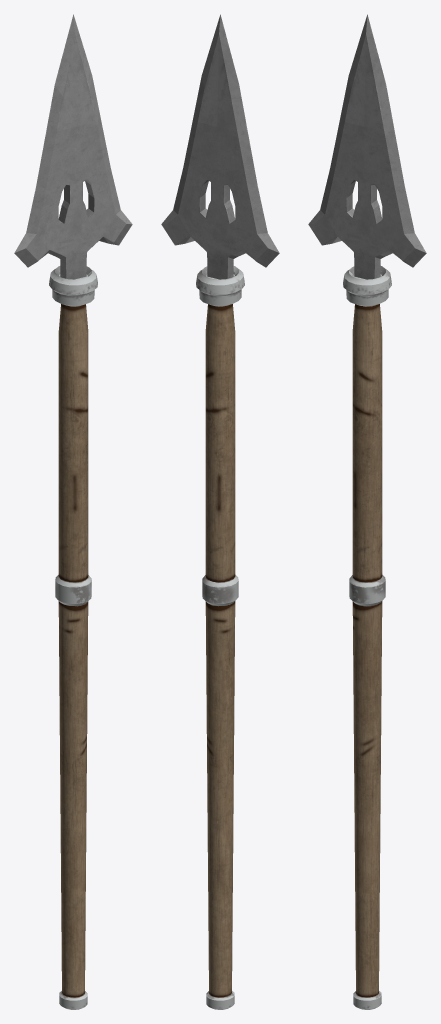
File: mzrak.fbx
3 views of the same model, side by side, from view 1: azimuth 30°, elevation 25°; view 2: azimuth 150°, elevation 25°; view 3: azimuth 330°, elevation 25° (orthographic).
Parts seen in each view (by area): view 1: mızrak; view 2: mızrak; view 3: mızrak.
Boxes of the visible parts, box(x1,y1,x2,y2) form: mızrak: box(14, 14, 132, 1009); mızrak: box(161, 14, 279, 1009); mızrak: box(308, 14, 426, 1009).
Bounding box in the file's own units: 95.52 × 763 × 35.99.
Materials: 1 (1 with a texture image).
